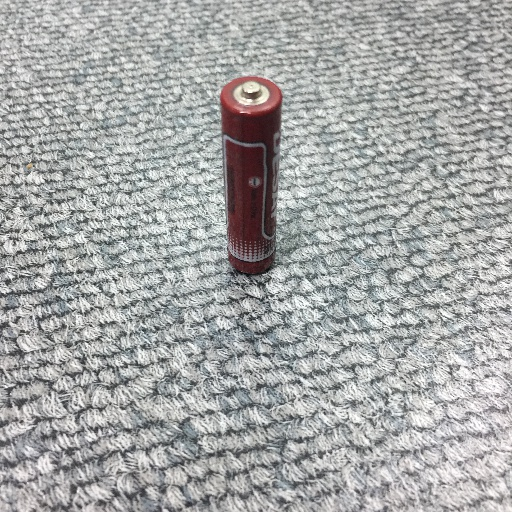Battery_0: (216, 68, 288, 283)
